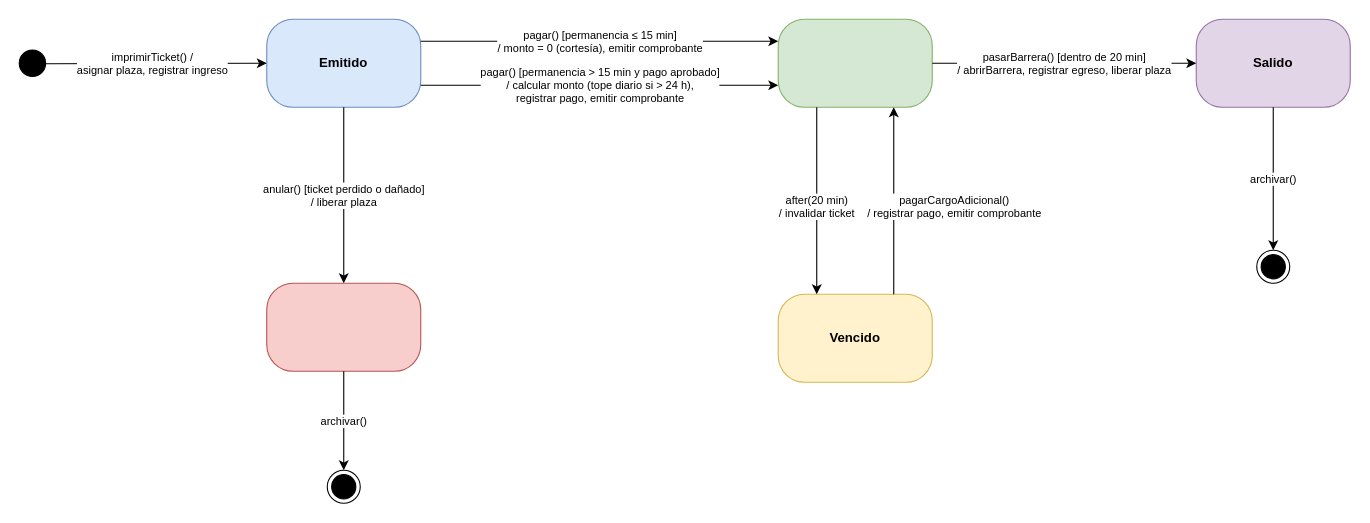
This 1370x523 diagram has some shape labels left out. Each missing label, with the box of its shape:
Anulado: (266, 282, 421, 371)
Pagado: (777, 18, 932, 107)
